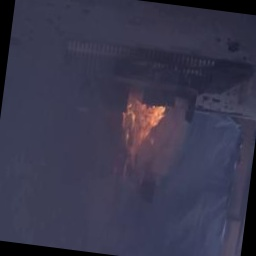fire: (115, 87, 169, 159)
